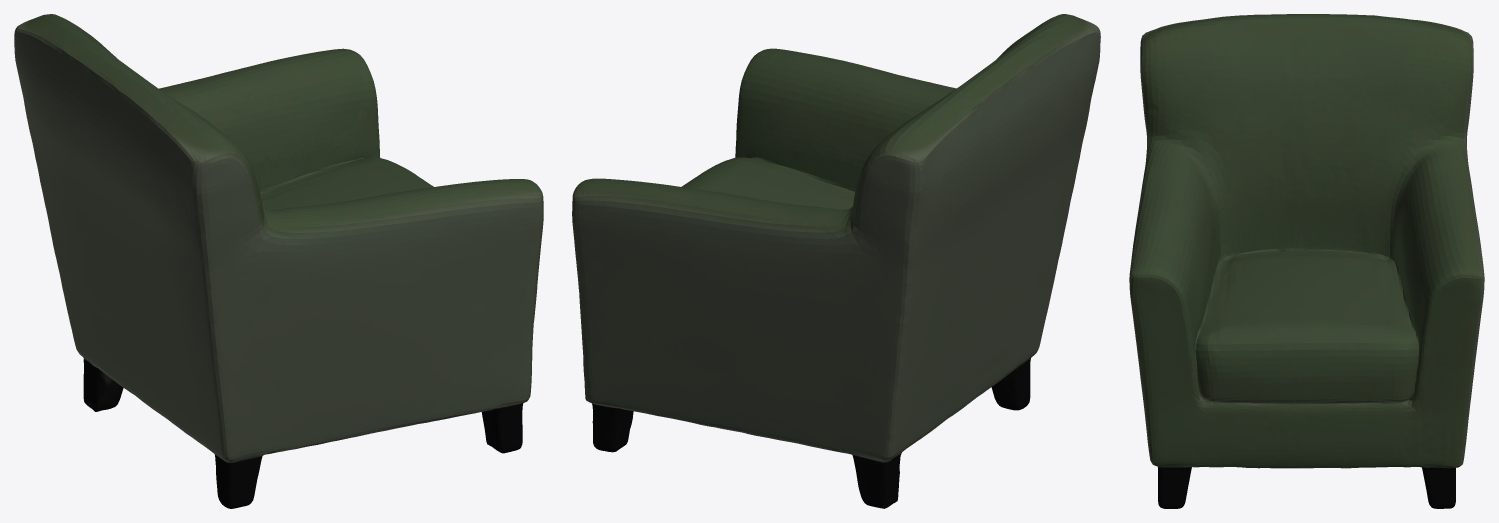
Rendered from tripo_convert_329a8980-075b-47fc-bdd9-37a65ae81d58.glb.
3 renders of one model, left to right at view 1: azimuth 30°, elevation 25°; view 2: azimuth 150°, elevation 25°; view 3: azimuth 270°, elevation 25°, orthographic. The views are drawn at different scales.
Parts seen in each view (by area): view 1: tripo_node_329a8980-075b-47fc-bdd9-37a65ae81d58; view 2: tripo_node_329a8980-075b-47fc-bdd9-37a65ae81d58; view 3: tripo_node_329a8980-075b-47fc-bdd9-37a65ae81d58.
Part boxes in pixels (box(x1,y1,x2,y2)): tripo_node_329a8980-075b-47fc-bdd9-37a65ae81d58: box(14, 14, 543, 508); tripo_node_329a8980-075b-47fc-bdd9-37a65ae81d58: box(572, 14, 1100, 508); tripo_node_329a8980-075b-47fc-bdd9-37a65ae81d58: box(1129, 14, 1484, 508).
Size of the model in its own units: 0.9288 by 0.9992 by 0.9052.
Materials: 1 (1 with a texture image).
